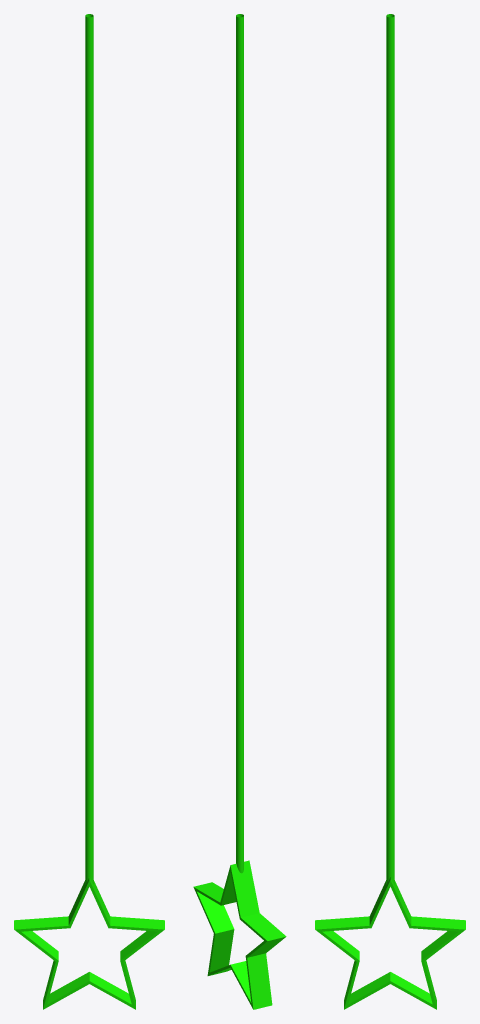
The model's file is cutter3_star.fbx.
3 views of the same model, side by side, from view 1: azimuth 90°, elevation 25°; view 2: azimuth 210°, elevation 25°; view 3: azimuth 270°, elevation 25° (orthographic).
Parts seen in each view (by area): view 1: Cutter3_Star; view 2: Cutter3_Star; view 3: Cutter3_Star.
Part boxes in pixels (x1,y1,x2,y2): Cutter3_Star: (14,14,164,1009); Cutter3_Star: (193,14,286,1009); Cutter3_Star: (315,14,465,1009).
Bounding box in the file's own units: 16.77 × 823 × 114.
